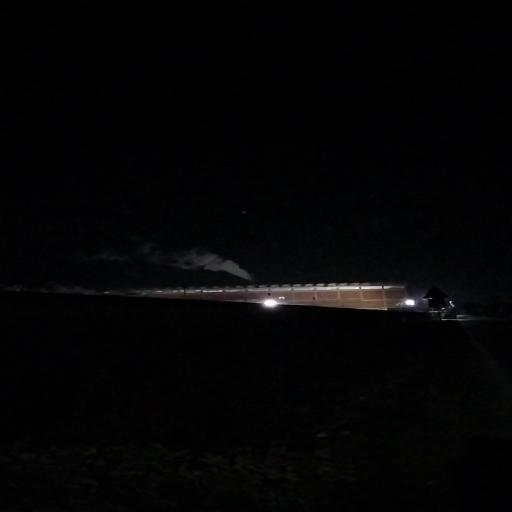leakage: (131, 230, 263, 284)
